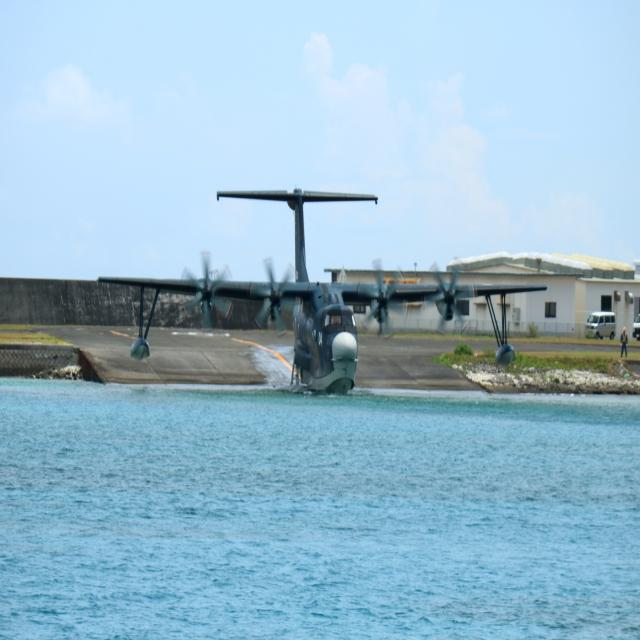MIL_Plane: (95, 183, 547, 395)
